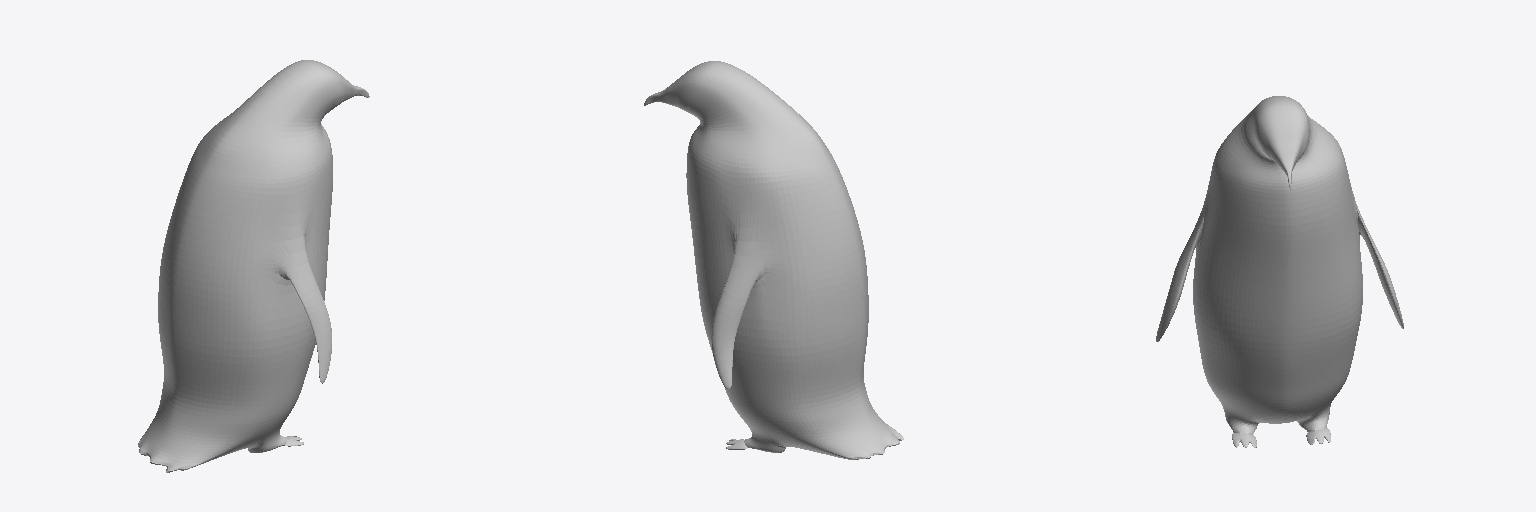
Rendered from penguin.obj.
3 renders of one model, left to right at view 1: azimuth 30°, elevation 25°; view 2: azimuth 150°, elevation 25°; view 3: azimuth 270°, elevation 25°, orthographic.
Parts seen in each view (by area): view 1: Penguin_Cylinder.001; view 2: Penguin_Cylinder.001; view 3: Penguin_Cylinder.001.
Part boxes in pixels (bbox=[...]): Penguin_Cylinder.001: bbox=[138, 60, 369, 472]; Penguin_Cylinder.001: bbox=[644, 61, 903, 459]; Penguin_Cylinder.001: bbox=[1156, 96, 1403, 447].
Bounding box in the file's own units: 0.8219 × 1.19 × 0.7448.